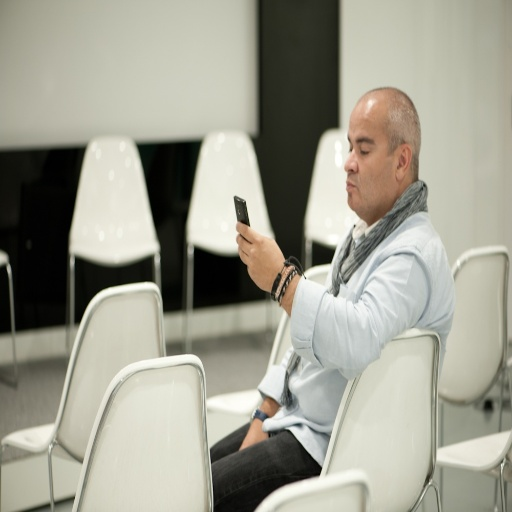hand: (234, 215, 293, 292)
